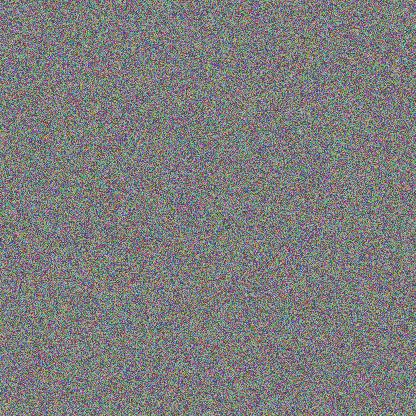empty: (166, 251, 281, 354)
occupied: (250, 166, 345, 277)
